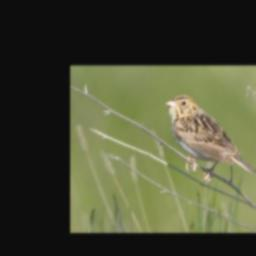Sparrow: (164, 94, 256, 183)
